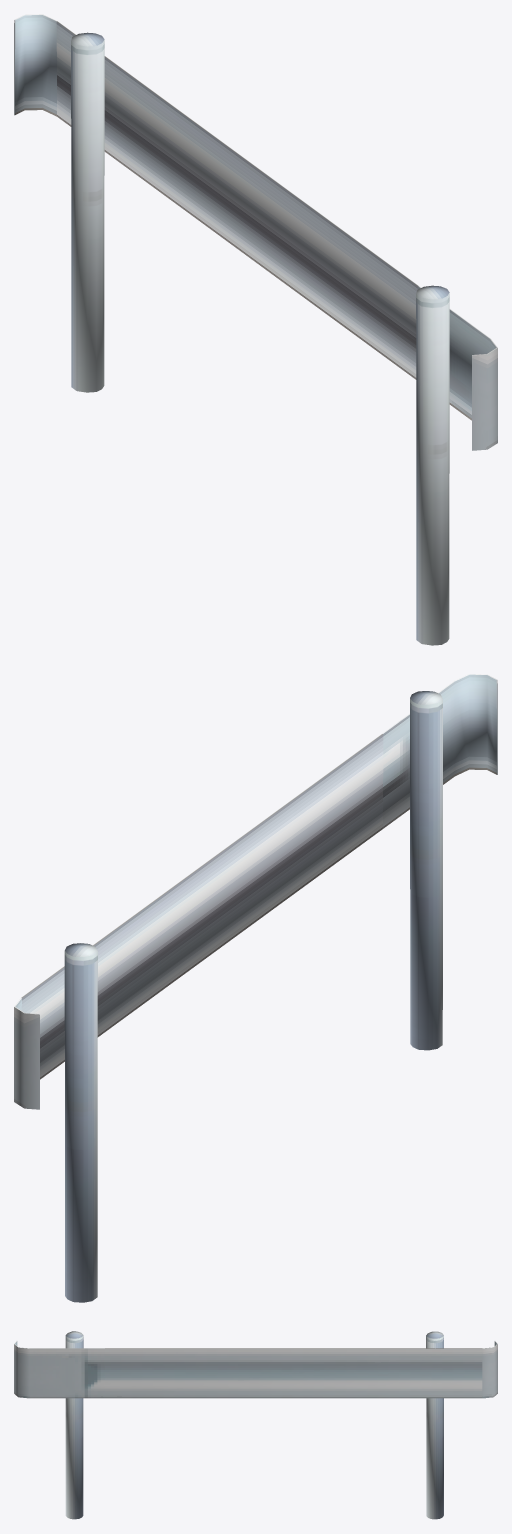
Rendered from RoadProp_GuardRail_01a.fbx.
The picture shows the model from 3 angles, top to bottom: view 1: azimuth 30°, elevation 25°; view 2: azimuth 150°, elevation 25°; view 3: azimuth 270°, elevation 25°; orthographic projection. The views are drawn at different scales.
Visible parts, largest first — view 1: RoadProp_GuardRail_01a; view 2: RoadProp_GuardRail_01a; view 3: RoadProp_GuardRail_01a.
Boxes of the visible parts, x1=… form: RoadProp_GuardRail_01a: x1=14, y1=14, x2=497, y2=645; RoadProp_GuardRail_01a: x1=14, y1=674, x2=497, y2=1302; RoadProp_GuardRail_01a: x1=14, y1=1331, x2=497, y2=1519.
Bounding box in the file's own units: 0.1139 × 1.19 × 2.86.
